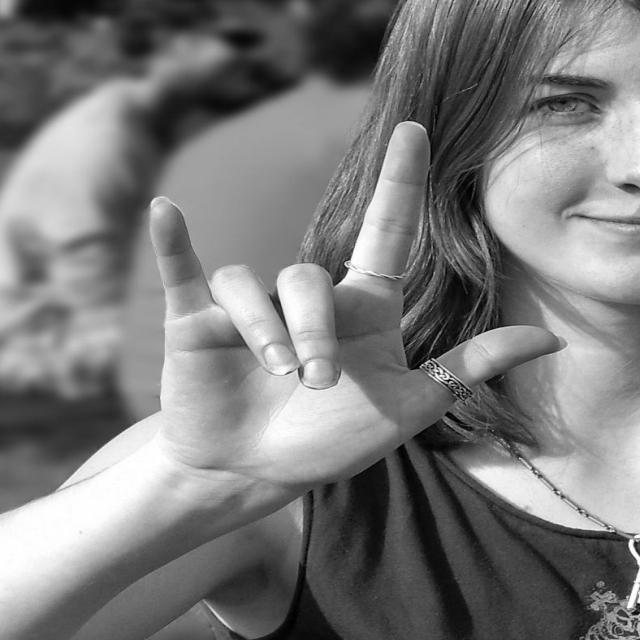i love you: (138, 111, 575, 508)
